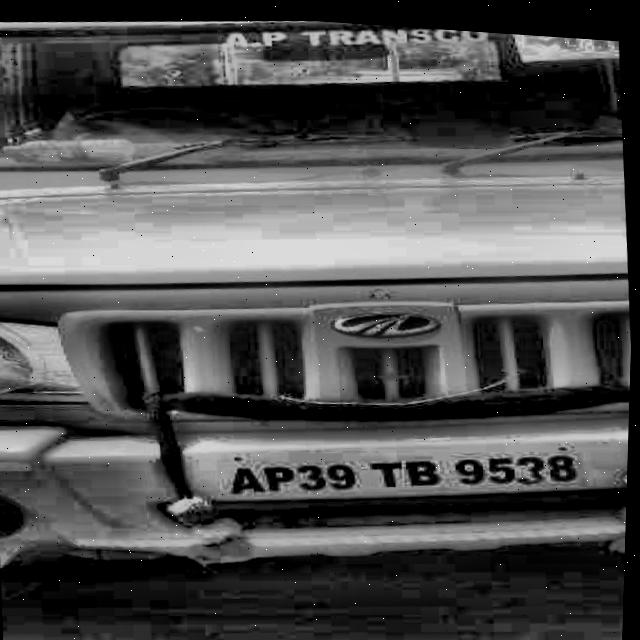light_vehicle: (0, 0, 640, 599)
